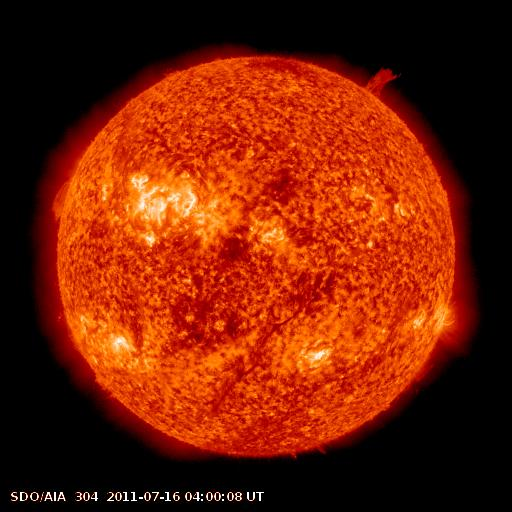prominence: (359, 60, 404, 110), (49, 175, 74, 229)
